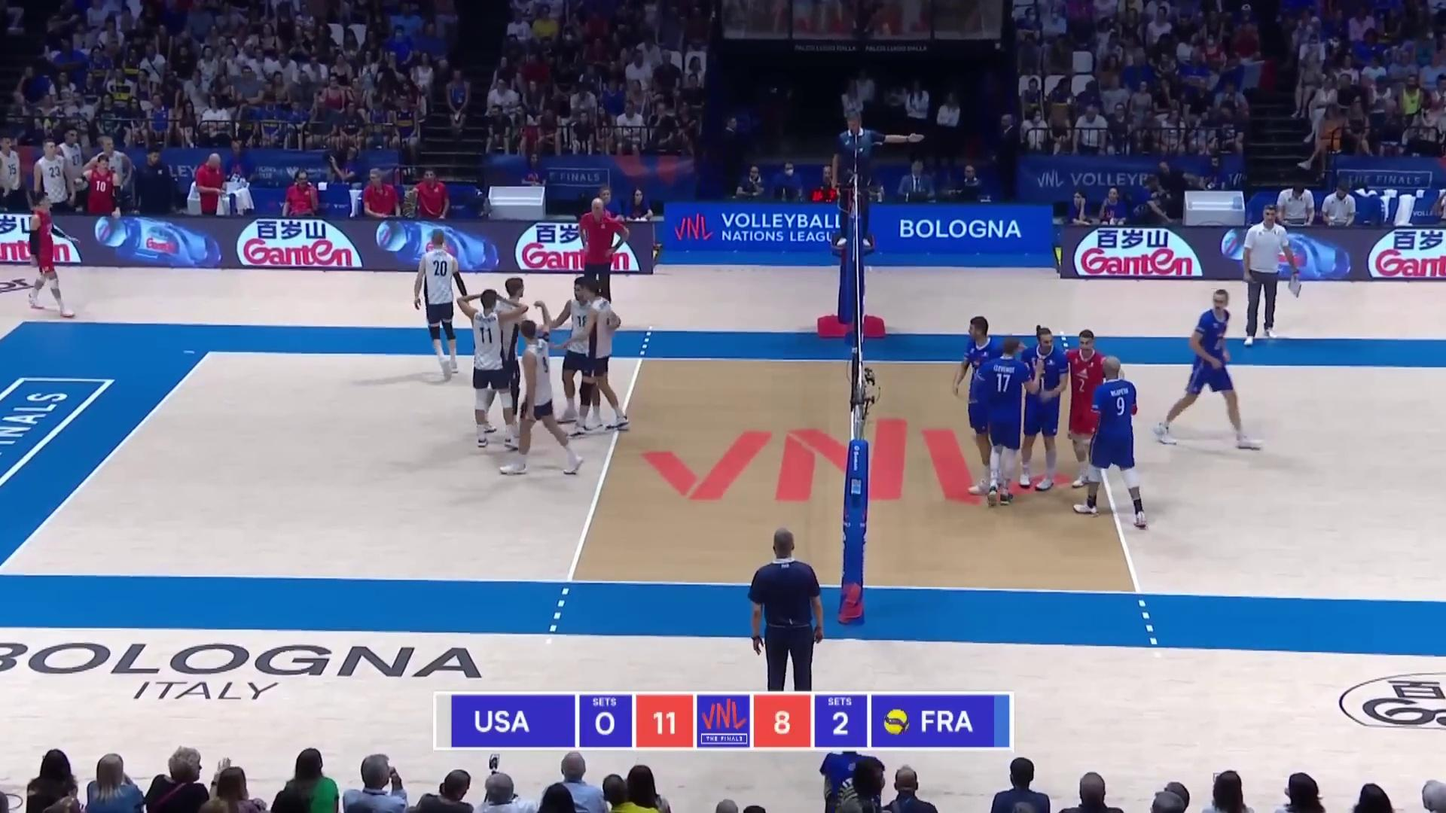player: (1156, 291, 1259, 449), (1079, 357, 1150, 529), (505, 319, 576, 477), (953, 316, 1006, 502), (572, 281, 629, 434), (1064, 329, 1117, 488), (412, 232, 468, 380), (1018, 326, 1065, 491), (983, 338, 1028, 506), (482, 278, 529, 434), (469, 292, 515, 451), (19, 193, 74, 320), (559, 278, 602, 426)
refree: (750, 529, 824, 694), (831, 107, 885, 247)
